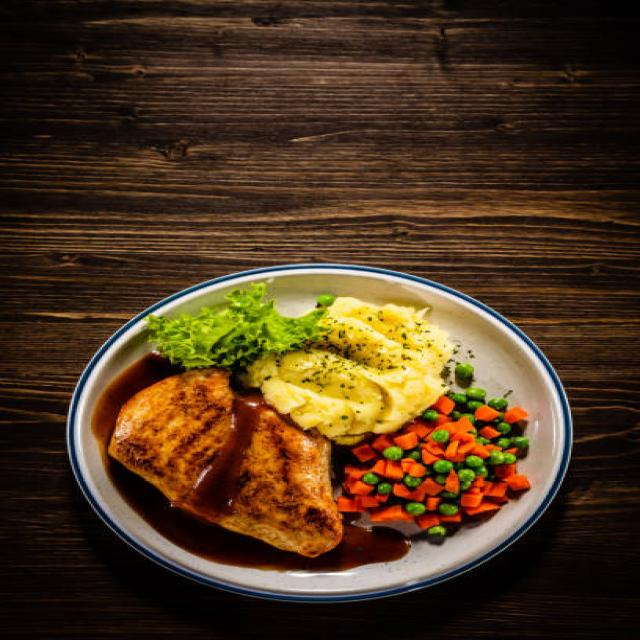Frango: (107, 368, 345, 561)
